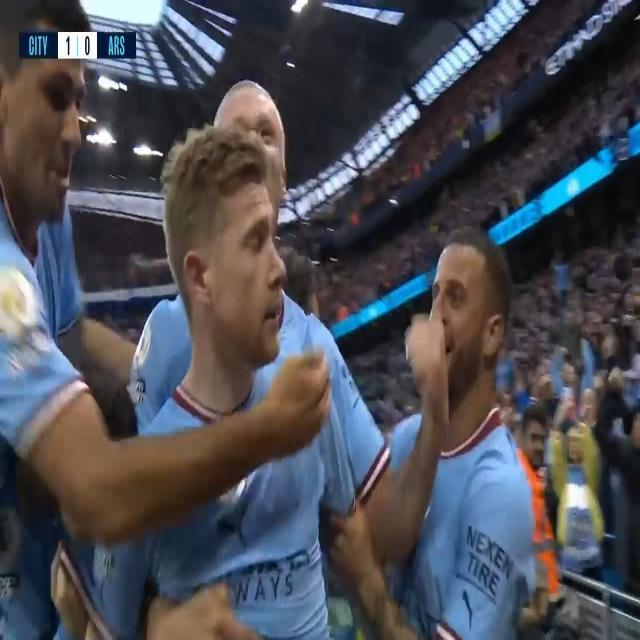player: (110, 98, 349, 640), (196, 10, 445, 527), (0, 0, 204, 600), (393, 161, 556, 626)
